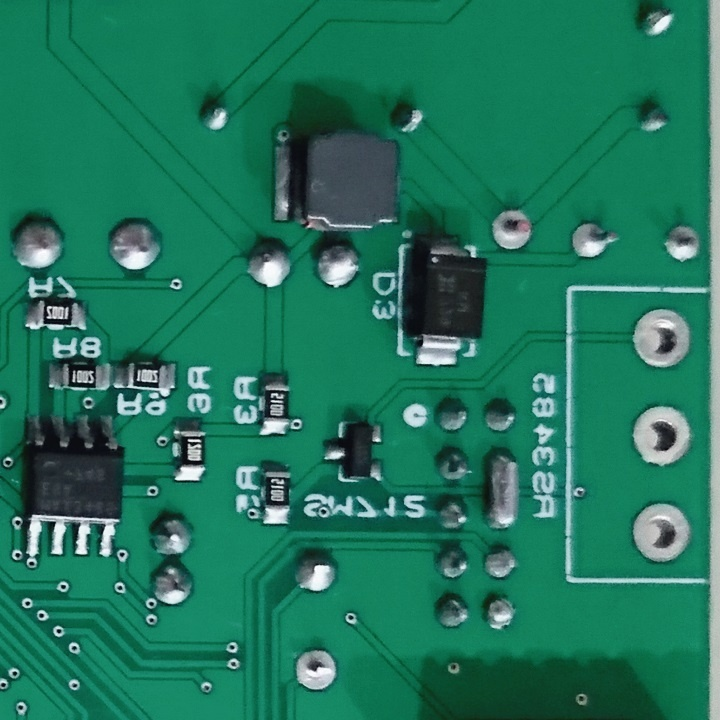F: (629, 402, 696, 470), (630, 306, 693, 372), (631, 498, 693, 560), (489, 205, 537, 257), (292, 643, 339, 695), (570, 218, 620, 266), (662, 222, 702, 266)
P: (478, 443, 525, 538)
